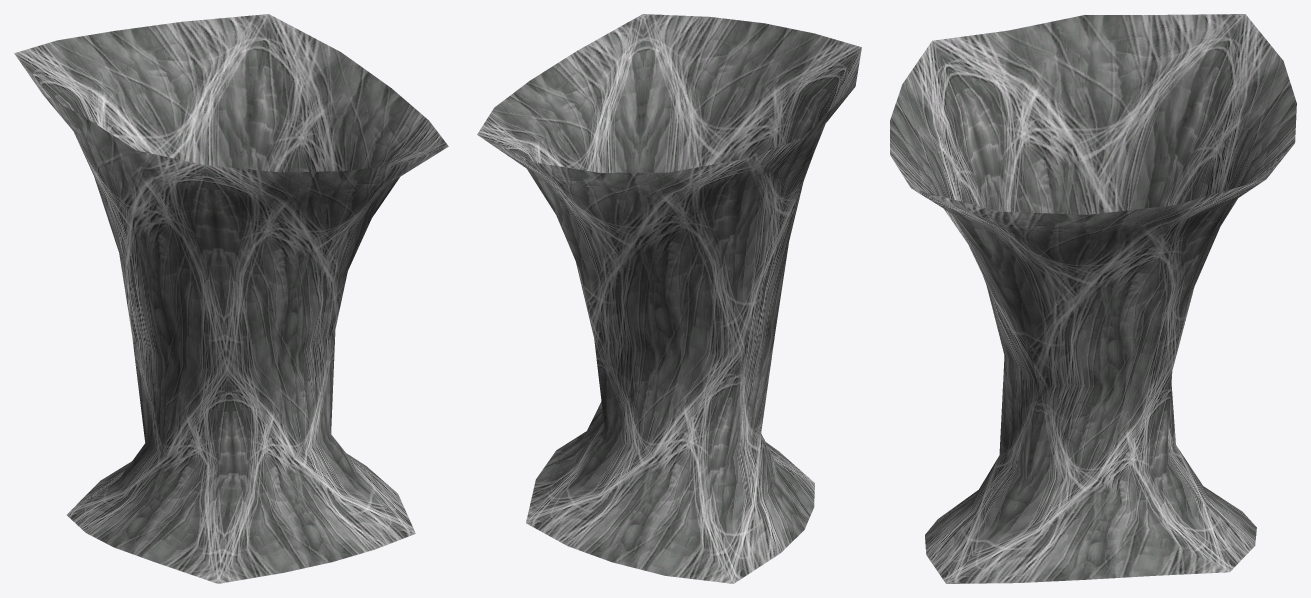
The model's file is SWORDLIGHT20_PS-AREA01_22.fbx.
The picture shows the model from 3 angles, left to right: view 1: azimuth 30°, elevation 25°; view 2: azimuth 150°, elevation 25°; view 3: azimuth 270°, elevation 25°; orthographic projection. The views are drawn at different scales.
Parts seen in each view (by area): view 1: SWORDLIGHT20_PS-AREA01_22; view 2: SWORDLIGHT20_PS-AREA01_22; view 3: SWORDLIGHT20_PS-AREA01_22.
Boxes of the visible parts, x1,y1,x2,y2 form: SWORDLIGHT20_PS-AREA01_22: [14, 14, 448, 583]; SWORDLIGHT20_PS-AREA01_22: [477, 14, 861, 583]; SWORDLIGHT20_PS-AREA01_22: [890, 14, 1296, 583].
Size of the model in its own units: 78452 by 109139 by 86694.
Materials: 1 (1 with a texture image).
